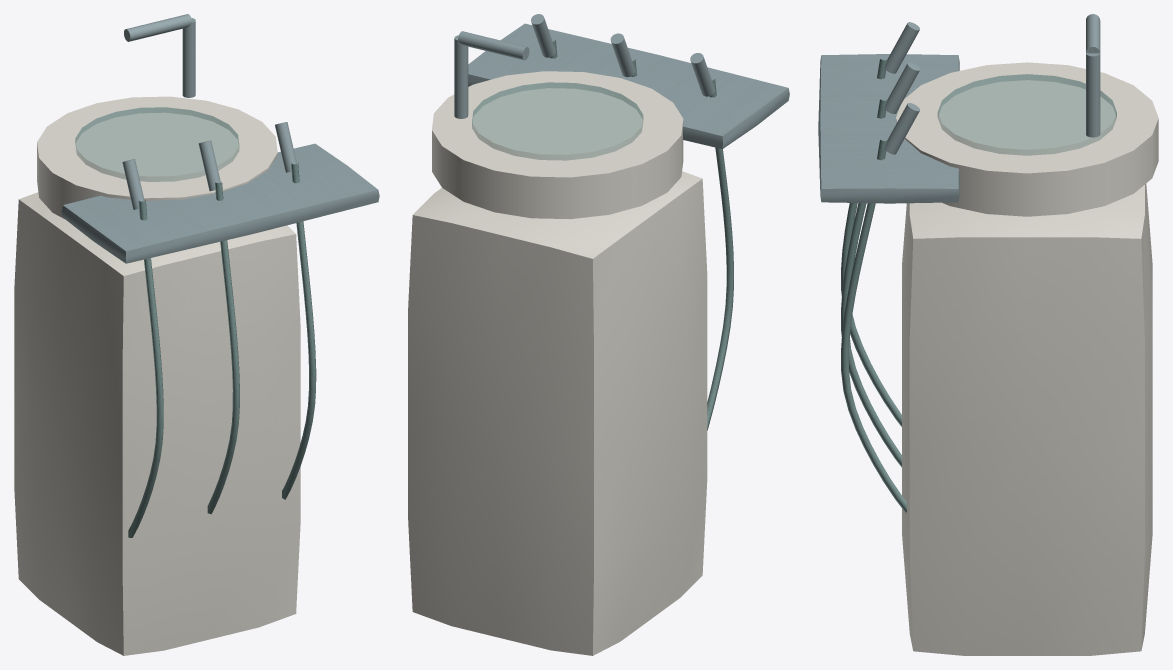
Rendered from dental-unit.glb.
3 renders of one model, left to right at view 1: azimuth 30°, elevation 25°; view 2: azimuth 150°, elevation 25°; view 3: azimuth 270°, elevation 25°, orthographic. The views are drawn at different scales.
Parts seen in each view (by area): view 1: dental-unit; view 2: dental-unit; view 3: dental-unit.
Boxes of the visible parts, x1,y1,x2,y2 form: dental-unit: (14, 14, 379, 655); dental-unit: (408, 14, 789, 655); dental-unit: (818, 14, 1158, 655).
Bounding box in the file's own units: 0.54 × 1.11 × 0.57.
Materials: 12 (12 with a texture image).
